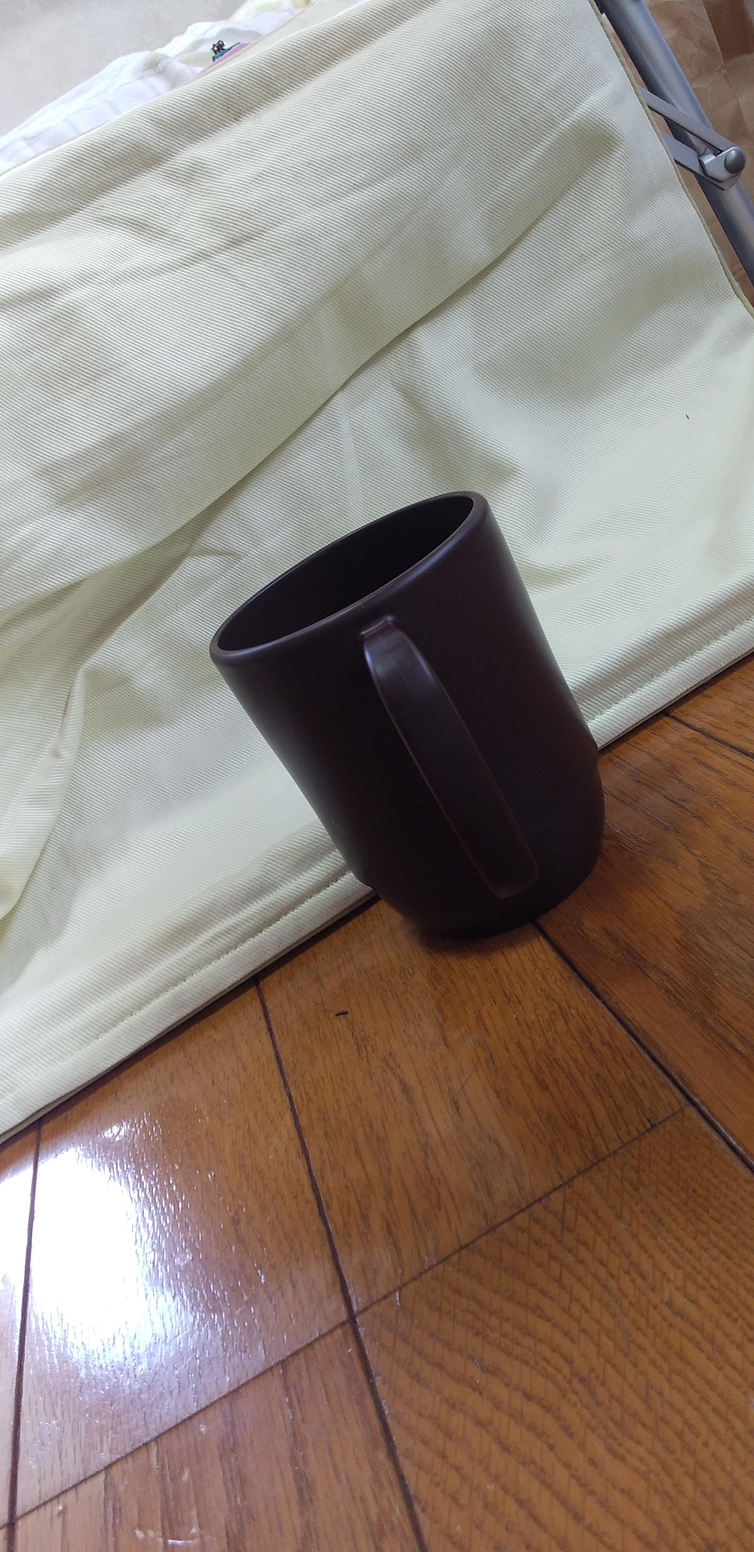mug-real100-3d100: (210, 492, 604, 937)
